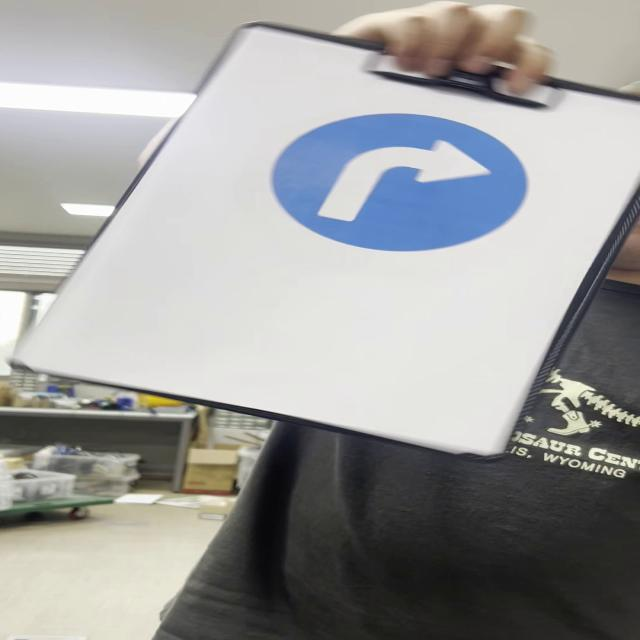right: (272, 114, 536, 260)
